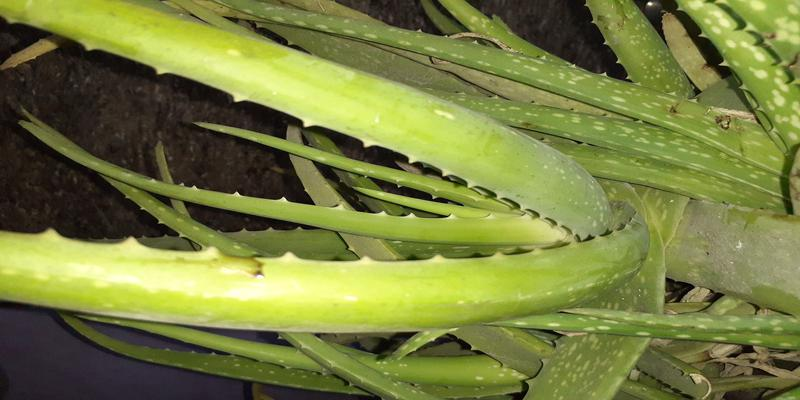Aloevera: (215, 27, 770, 361)
